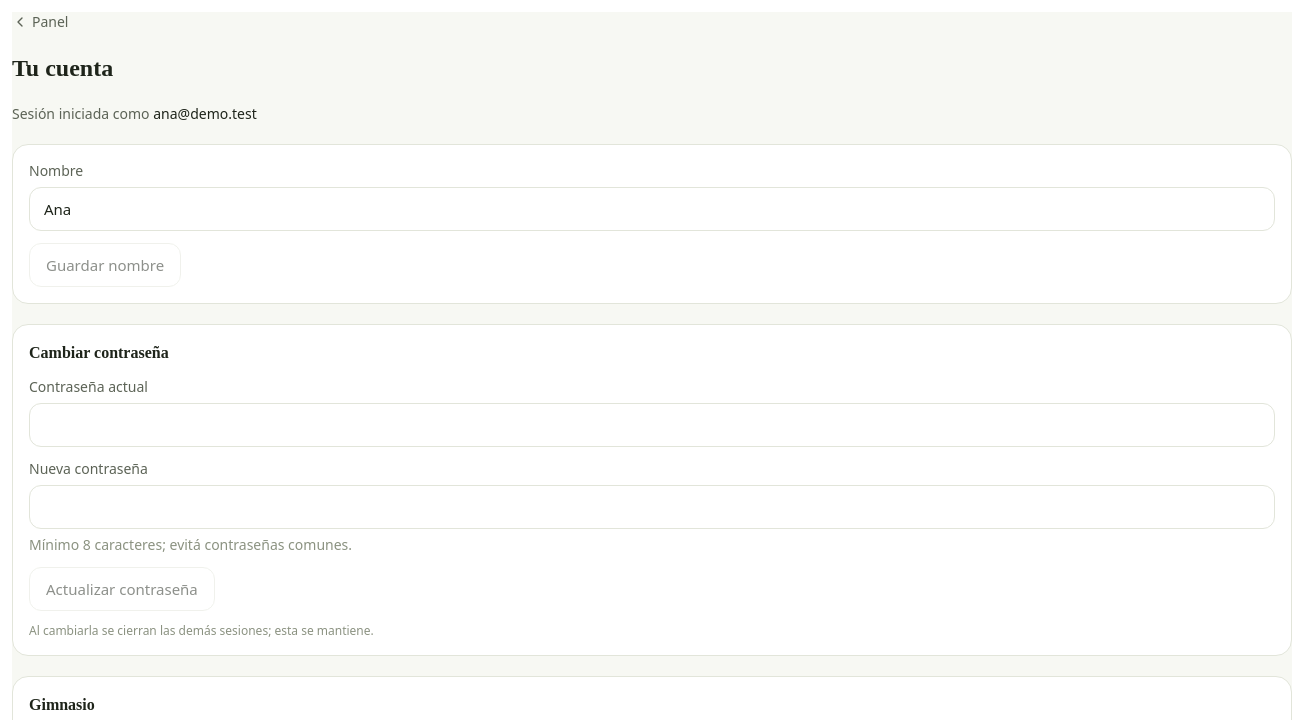
it: Account — change-password (F2-06 caso 1) › INVALID_CREDENTIALS → error bajo "Contraseña actual"
Type "malapass" into the password field labelled "Contraseña actual" at (652, 425), box [29,403,1275,447]
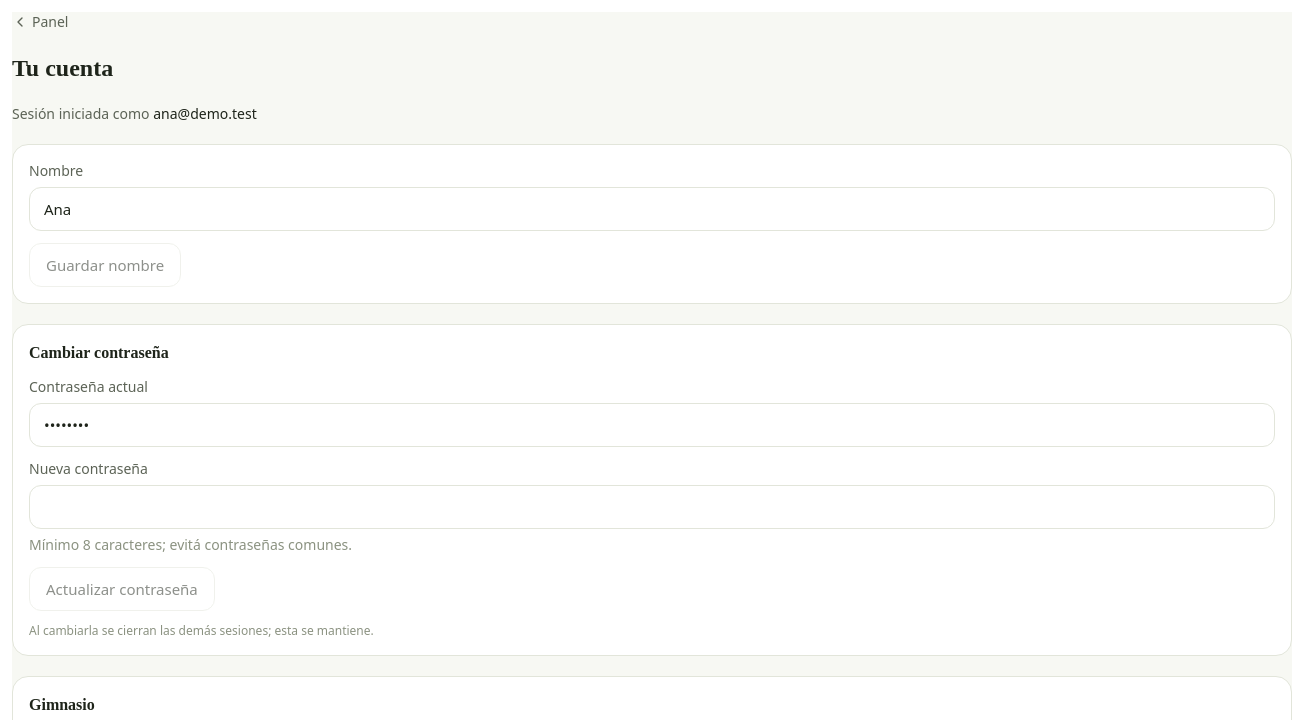
Type "nuevapass123" into the password field labelled "Nueva contraseña" at (652, 507), box [29,485,1275,529]
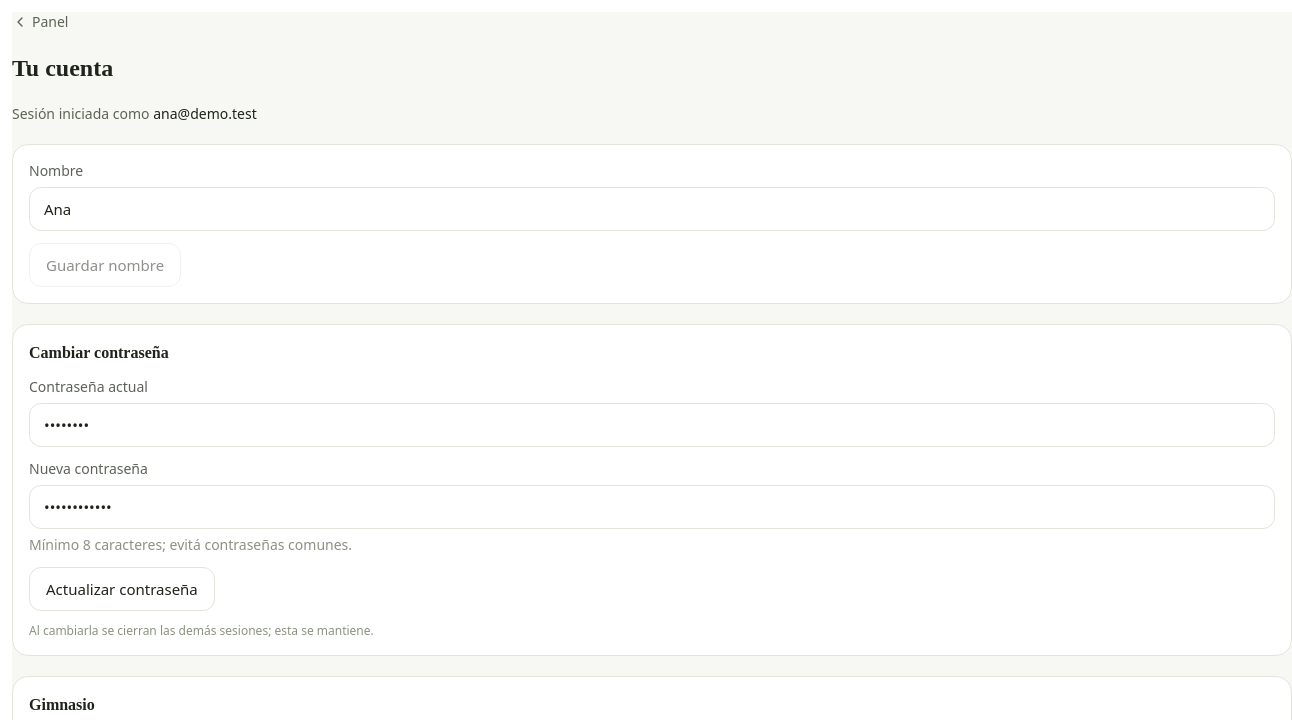
Click the button "Actualizar contraseña" at (122, 589), box [29,567,215,611]
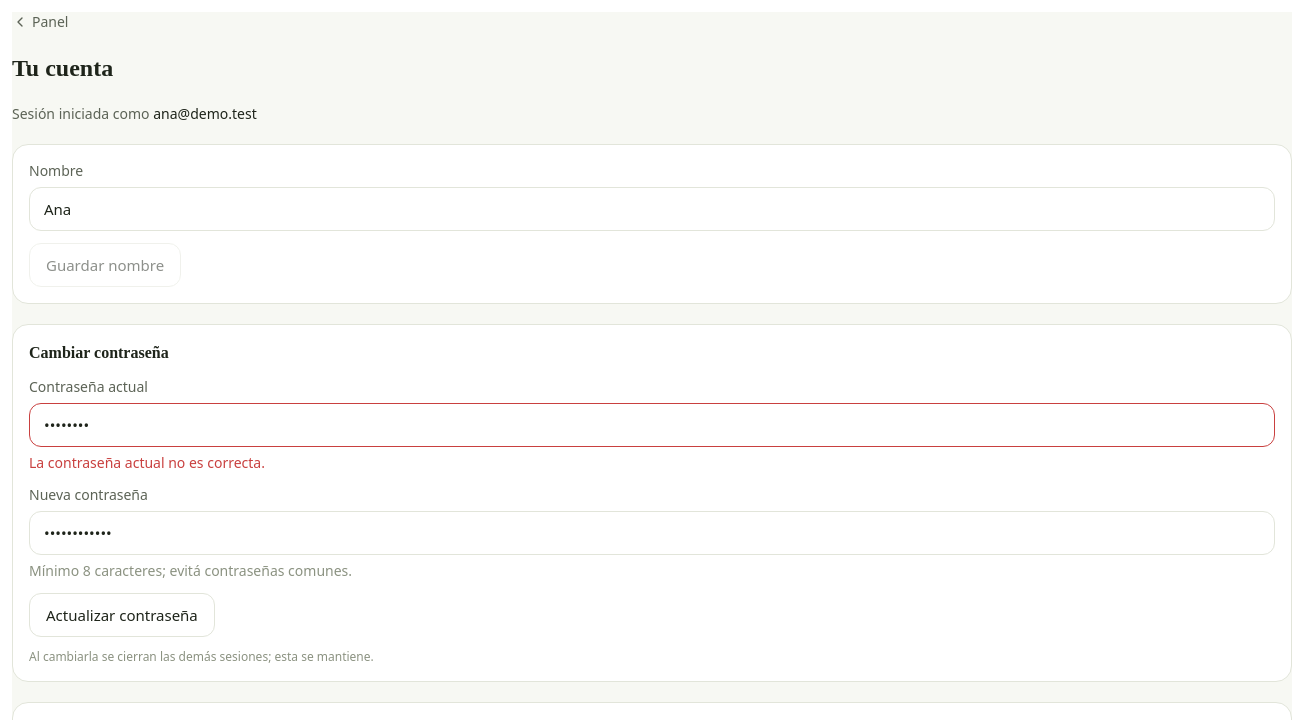
Result: the text "La contraseña actual no es correcta." is shown at [29,453,265,472]
